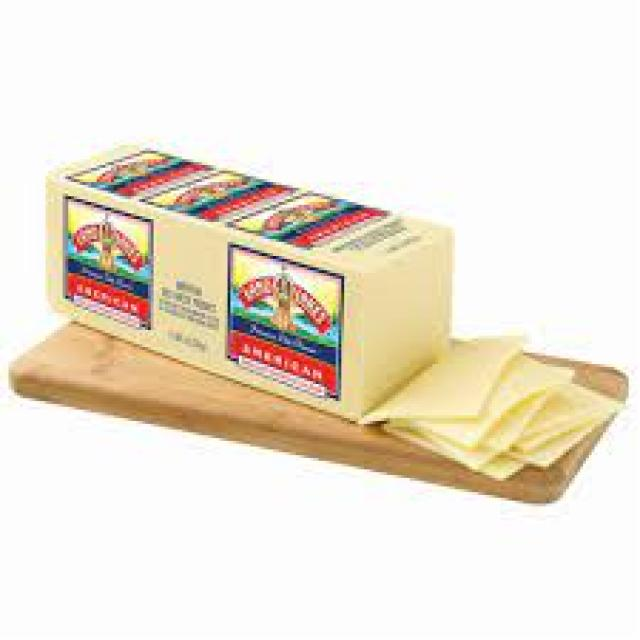cheese: (360, 337, 622, 480)
